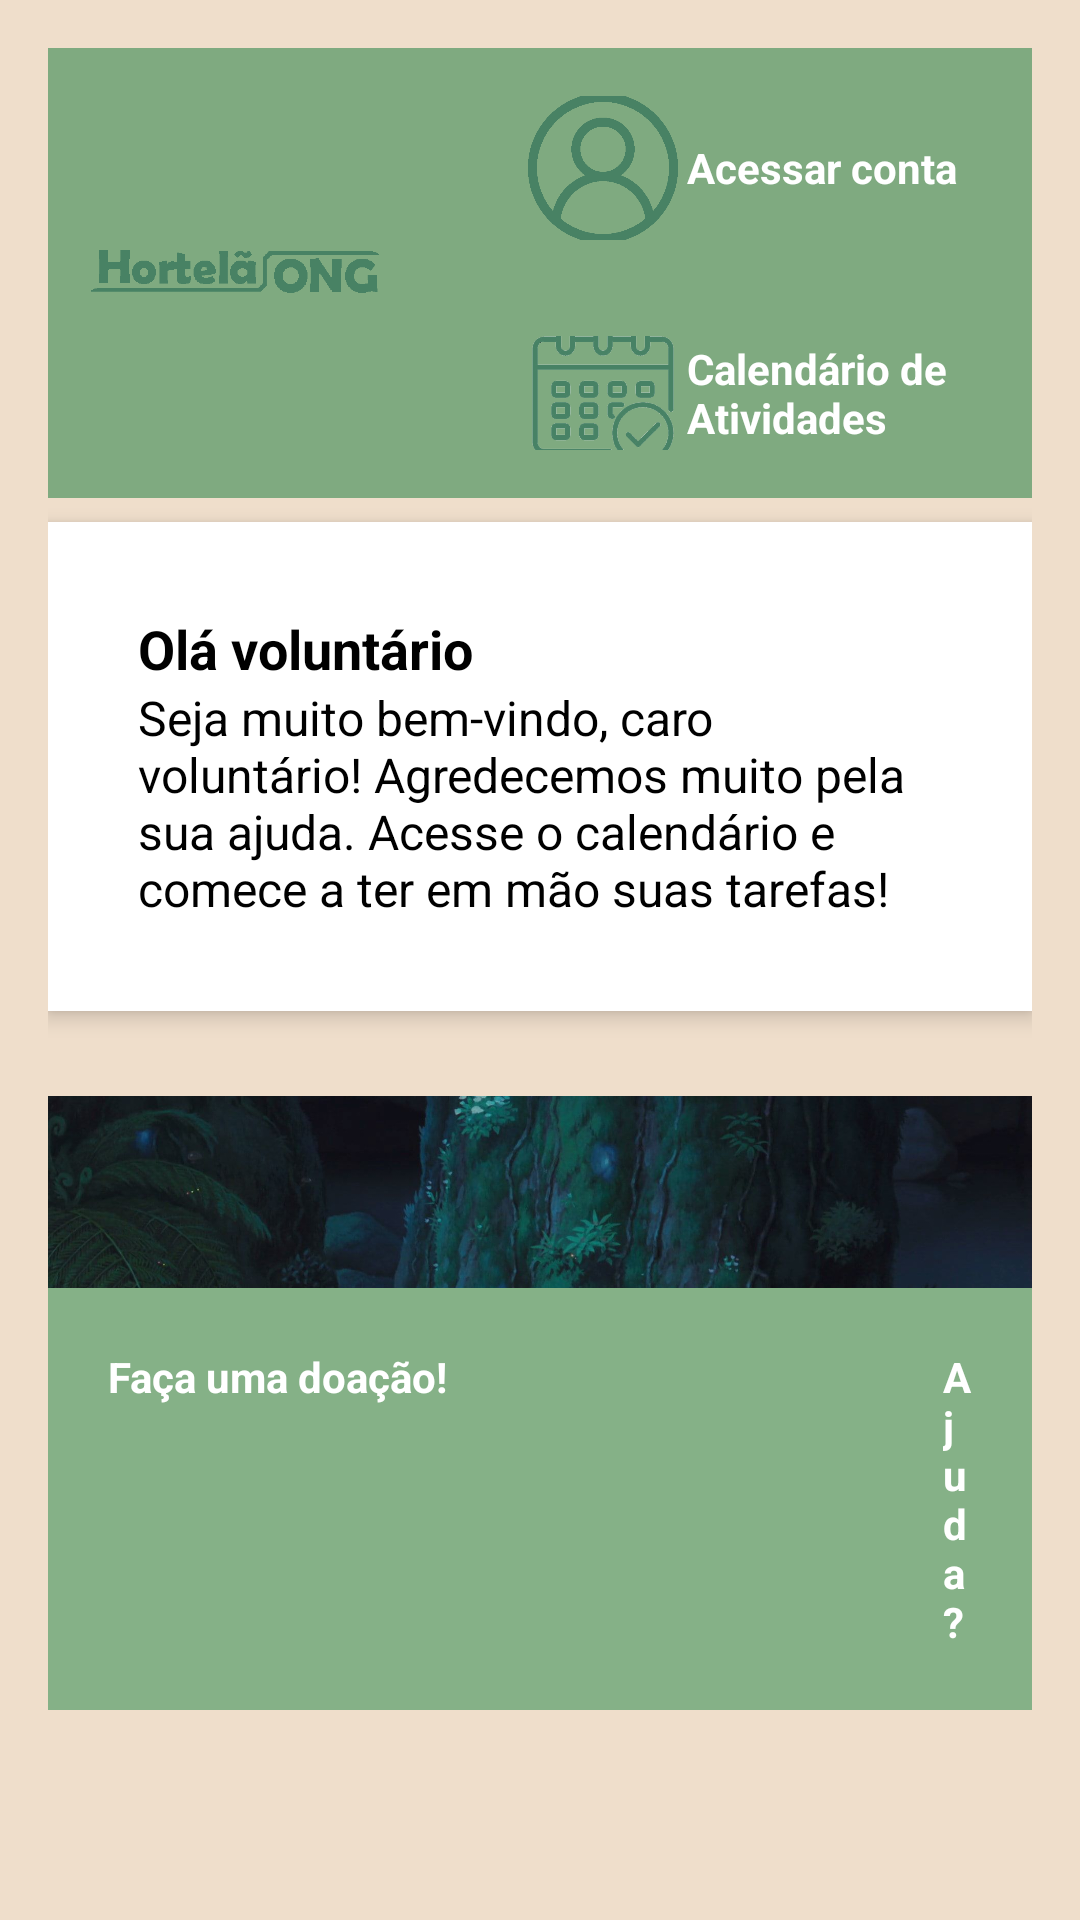

Where to tap for icons on this 1080px x 1920px app screen, as [x,y]:
calendario: [603,393]
profile: [603,168]
